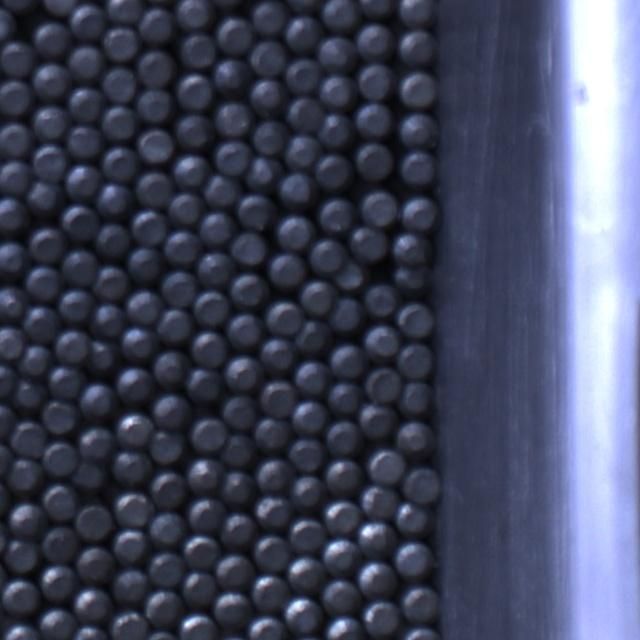tool: (110, 451, 152, 489), (282, 596, 321, 636), (399, 112, 440, 149), (356, 142, 395, 180), (397, 421, 436, 459), (362, 600, 400, 638), (357, 561, 395, 599), (356, 23, 394, 61), (400, 149, 438, 187), (403, 465, 442, 502), (348, 225, 387, 262), (396, 541, 435, 578), (399, 380, 435, 420), (359, 190, 397, 227), (135, 170, 173, 207), (77, 546, 115, 583), (399, 71, 438, 107), (354, 101, 393, 137), (240, 157, 282, 190), (359, 64, 396, 101), (254, 535, 291, 572), (324, 577, 361, 614), (76, 504, 114, 540), (2, 579, 40, 615), (402, 586, 440, 622), (316, 36, 354, 72), (61, 202, 99, 238), (114, 490, 152, 526), (398, 27, 436, 63), (150, 470, 186, 508), (260, 378, 296, 416), (146, 588, 182, 626), (275, 213, 313, 249), (166, 192, 204, 228), (397, 301, 436, 336), (393, 230, 433, 264), (137, 51, 173, 88), (216, 17, 252, 54), (365, 366, 402, 402), (177, 71, 213, 108), (213, 140, 250, 176), (266, 300, 303, 336), (237, 193, 274, 229), (319, 197, 356, 233), (28, 227, 65, 263), (225, 354, 262, 390), (402, 194, 439, 230), (398, 343, 435, 379), (216, 100, 253, 136), (9, 419, 45, 456), (69, 1, 105, 38), (31, 20, 68, 56), (32, 62, 69, 98), (117, 366, 154, 402), (22, 305, 59, 341), (368, 447, 406, 482), (190, 416, 228, 451), (153, 392, 191, 427), (72, 585, 110, 620), (229, 272, 267, 307), (116, 412, 154, 447), (218, 433, 256, 468), (191, 332, 227, 368), (43, 484, 79, 520), (131, 208, 167, 244), (138, 6, 174, 42), (286, 554, 322, 590), (254, 575, 290, 611), (102, 24, 139, 59), (31, 144, 66, 181), (314, 153, 351, 188), (360, 483, 397, 518), (358, 402, 395, 437), (216, 553, 253, 588), (326, 458, 363, 493), (319, 73, 356, 108), (287, 519, 324, 554), (212, 57, 247, 94), (268, 252, 306, 286), (122, 327, 160, 361), (326, 342, 364, 376), (42, 441, 78, 476), (193, 288, 228, 324), (100, 66, 136, 101), (39, 565, 74, 601), (43, 528, 78, 564), (162, 270, 197, 306), (251, 41, 287, 76), (364, 324, 400, 359), (300, 278, 335, 314), (154, 349, 189, 385), (80, 381, 115, 417), (66, 164, 102, 199), (157, 307, 193, 342), (284, 58, 320, 93), (228, 312, 263, 348), (284, 16, 320, 51), (324, 538, 359, 574), (62, 248, 97, 284), (316, 113, 352, 148), (150, 428, 185, 464), (175, 112, 212, 146), (309, 238, 346, 272), (324, 498, 361, 532), (396, 501, 433, 535), (8, 459, 42, 496), (280, 175, 318, 208), (127, 247, 162, 282), (138, 128, 174, 162), (0, 39, 34, 75), (100, 145, 136, 179), (181, 34, 217, 68), (126, 288, 162, 322), (185, 535, 221, 569), (32, 104, 68, 138), (184, 367, 220, 401), (66, 124, 102, 158), (92, 266, 128, 300), (172, 154, 208, 188), (254, 459, 290, 493), (256, 494, 292, 528), (37, 607, 74, 640), (7, 500, 44, 533), (250, 79, 283, 116), (284, 134, 321, 167), (24, 266, 59, 300), (101, 106, 136, 140), (327, 420, 362, 454), (29, 181, 64, 215), (41, 400, 77, 433), (49, 364, 85, 397), (136, 88, 172, 121), (290, 401, 326, 434), (286, 98, 324, 129), (111, 610, 150, 640), (322, 0, 361, 30), (223, 395, 257, 429), (80, 426, 114, 460), (67, 46, 101, 80), (230, 232, 265, 265), (3, 539, 38, 572), (94, 224, 129, 257), (199, 211, 234, 244), (97, 185, 132, 218), (203, 176, 239, 208), (190, 498, 226, 530), (0, 194, 29, 233), (290, 439, 324, 472), (56, 330, 90, 363), (68, 87, 101, 121), (200, 252, 233, 286), (73, 460, 106, 494), (393, 258, 426, 292), (0, 241, 28, 281), (18, 345, 53, 377), (0, 80, 31, 116), (217, 592, 248, 628), (0, 121, 30, 158), (179, 612, 218, 640), (59, 289, 92, 322), (114, 568, 147, 601), (250, 0, 284, 32), (365, 283, 399, 315), (252, 121, 284, 155), (165, 233, 199, 265), (115, 530, 147, 564), (219, 514, 254, 545), (175, 0, 212, 29), (15, 381, 47, 414), (254, 417, 286, 450), (263, 338, 294, 372), (397, 0, 438, 25), (291, 474, 323, 506), (0, 161, 31, 194), (86, 340, 117, 373), (152, 553, 184, 584), (221, 473, 252, 505), (295, 322, 326, 354), (297, 365, 329, 396), (249, 615, 288, 640), (326, 616, 366, 640), (190, 460, 220, 492), (330, 297, 359, 330), (147, 514, 181, 542), (94, 303, 122, 336), (186, 574, 215, 605), (0, 283, 24, 318), (329, 382, 360, 409), (0, 326, 24, 359), (356, 0, 396, 17), (336, 262, 362, 288), (397, 626, 443, 640), (0, 5, 17, 41), (3, 624, 40, 640), (43, 0, 81, 15), (76, 622, 106, 640), (1, 0, 41, 13), (0, 442, 12, 478), (0, 365, 13, 397), (146, 630, 182, 640), (290, 0, 320, 12), (0, 481, 9, 518), (0, 406, 11, 436)
